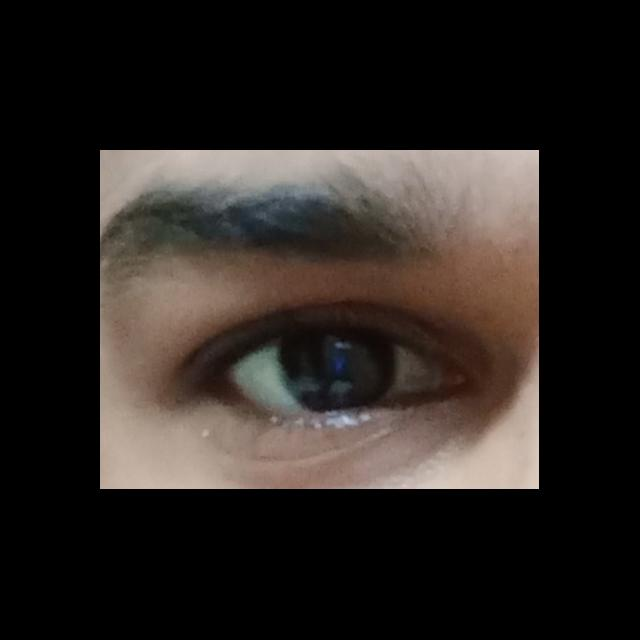eye: (231, 331, 435, 412)
iris: (277, 335, 396, 409)
